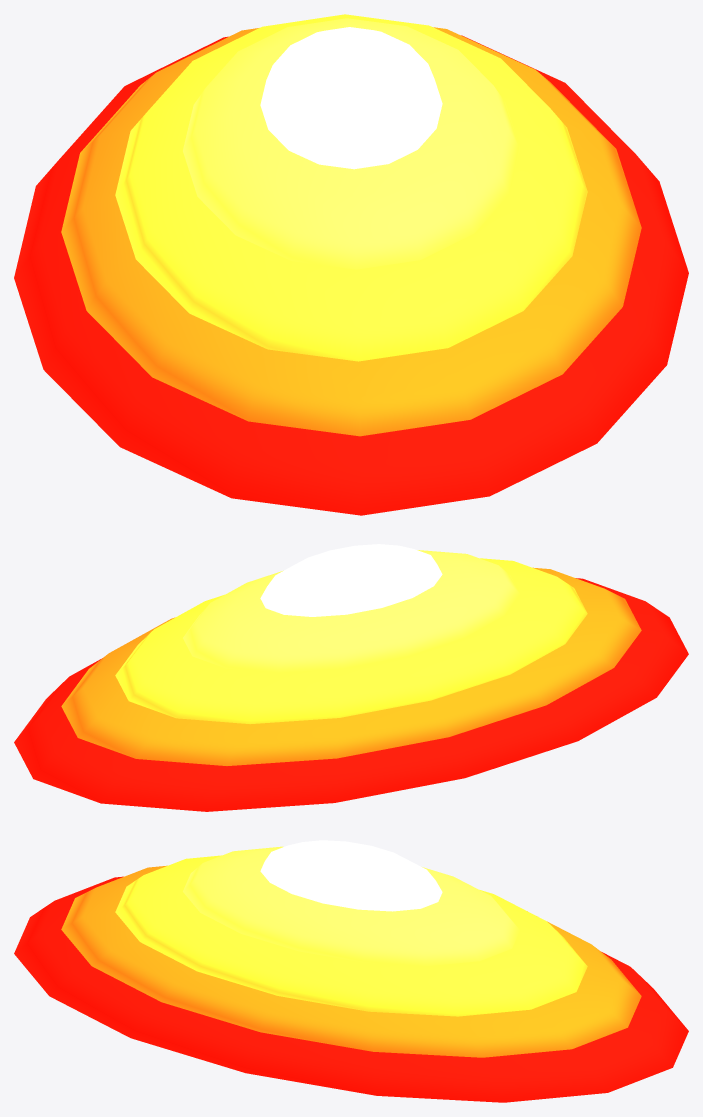
File: newshj-19-f2.glb
3 renders of one model, top to bottom at view 1: azimuth 30°, elevation 25°; view 2: azimuth 150°, elevation 25°; view 3: azimuth 270°, elevation 25°, orthographic. The views are drawn at different scales.
Parts seen in each view (by area): view 1: newshj-19-f2; view 2: newshj-19-f2; view 3: newshj-19-f2.
Part boxes in pixels (left/top/right/bottom): newshj-19-f2: left=14, top=14, right=688, bottom=515; newshj-19-f2: left=14, top=544, right=688, bottom=811; newshj-19-f2: left=14, top=840, right=688, bottom=1102.
Size of the model in its own units: 0.8168 by 0.2412 by 1.06.
